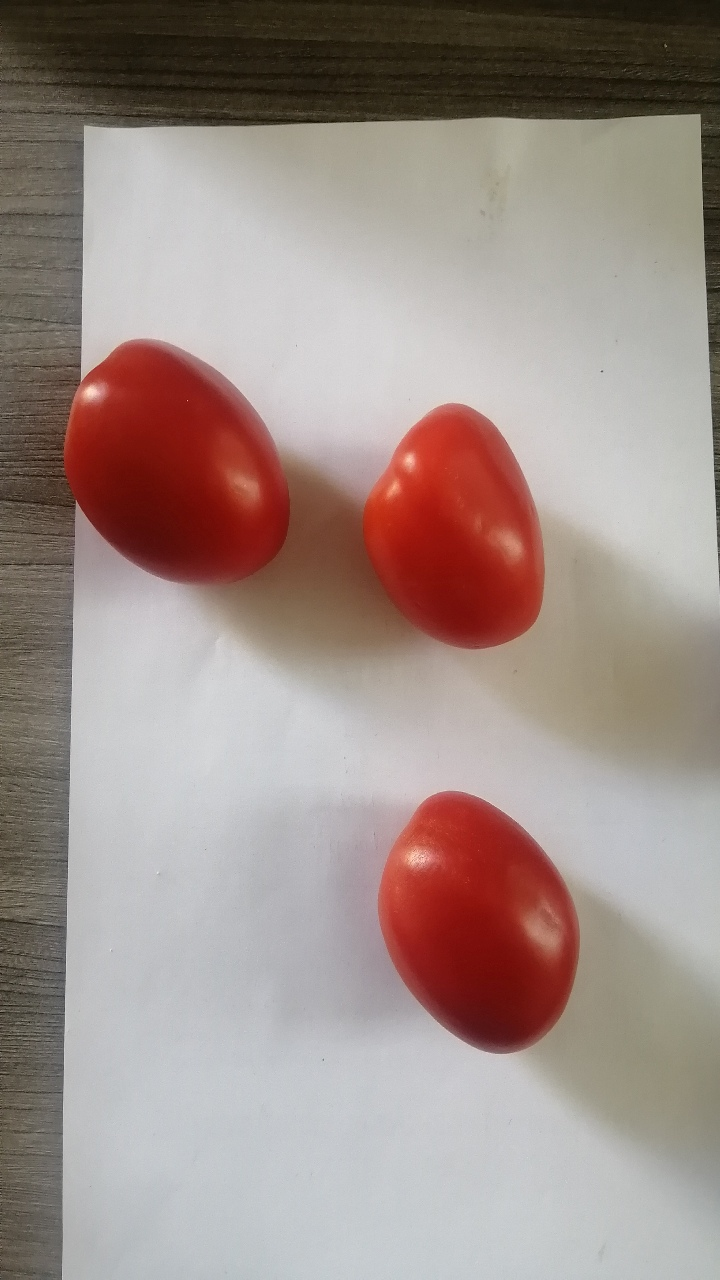tomateRojo: (358, 768, 604, 1075), (55, 322, 309, 617), (349, 394, 568, 674)
